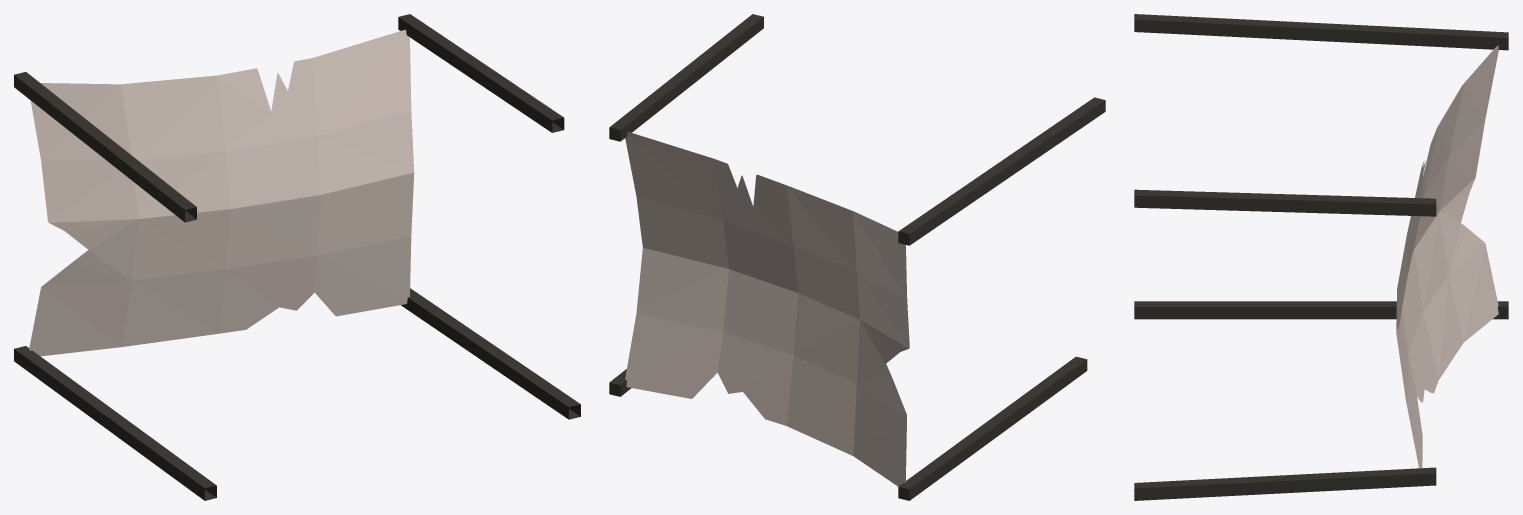
File: Shelter 01 White.FBX
The picture shows the model from 3 angles, left to right: view 1: azimuth 30°, elevation 25°; view 2: azimuth 150°, elevation 25°; view 3: azimuth 270°, elevation 25°; orthographic projection. The views are drawn at different scales.
Parts seen in each view (by area): view 1: Shelter 02 White; view 2: Shelter 02 White; view 3: Shelter 02 White.
Boxes of the visible parts, <box> form: Shelter 02 White: <box>14,14,580,500</box>; Shelter 02 White: <box>609,14,1105,500</box>; Shelter 02 White: <box>1134,14,1508,500</box>.
Size of the model in its own units: 342 by 285 by 250.
